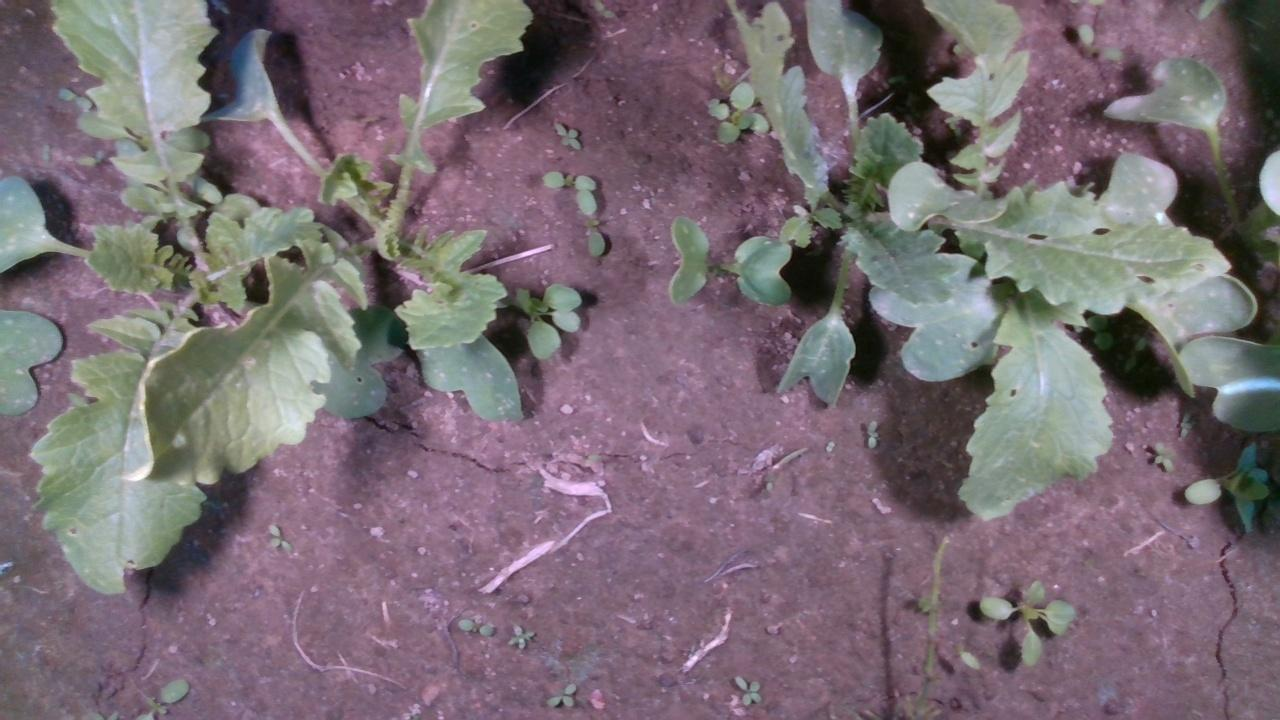weed: (551, 120, 583, 151), (543, 681, 577, 708), (732, 674, 762, 704), (506, 621, 537, 648), (265, 522, 291, 553), (456, 616, 494, 636), (1152, 439, 1174, 473)
